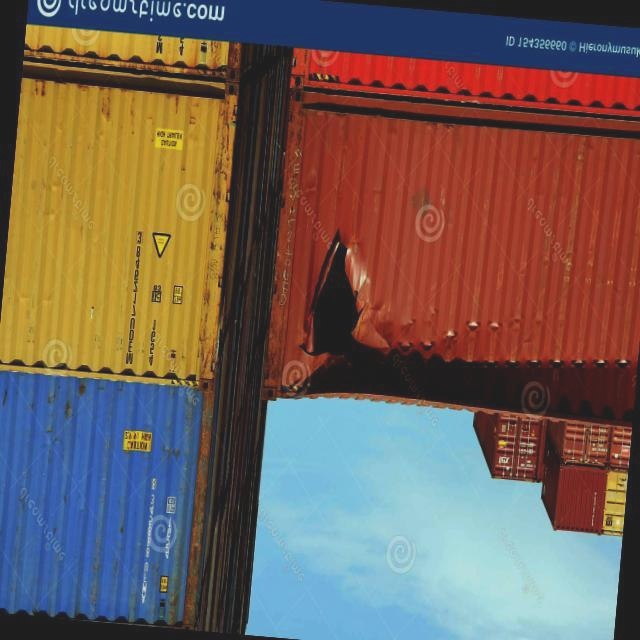Dent: (396, 274, 640, 398)
Hole: (279, 353, 514, 431), (292, 226, 386, 371)
